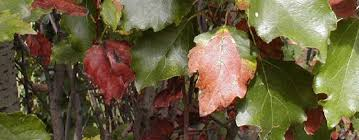Diseased_Leaves: (191, 43, 252, 117), (90, 41, 133, 95), (289, 27, 332, 80)
